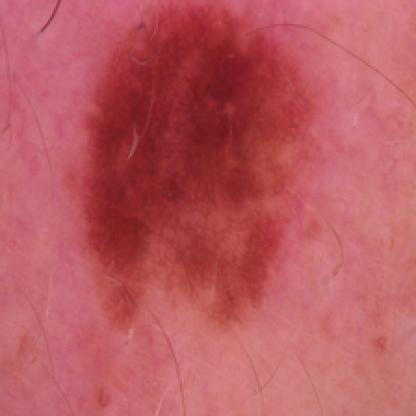benign: (78, 4, 314, 330)
